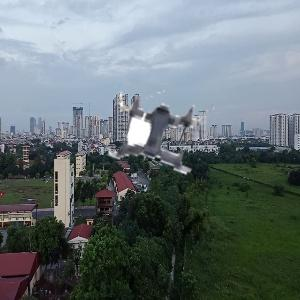drone: (101, 76, 217, 192)
